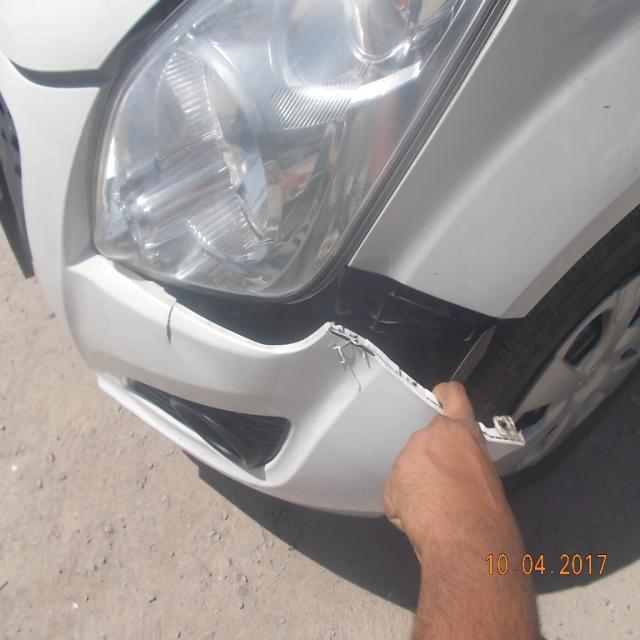minor: (94, 238, 530, 468)
